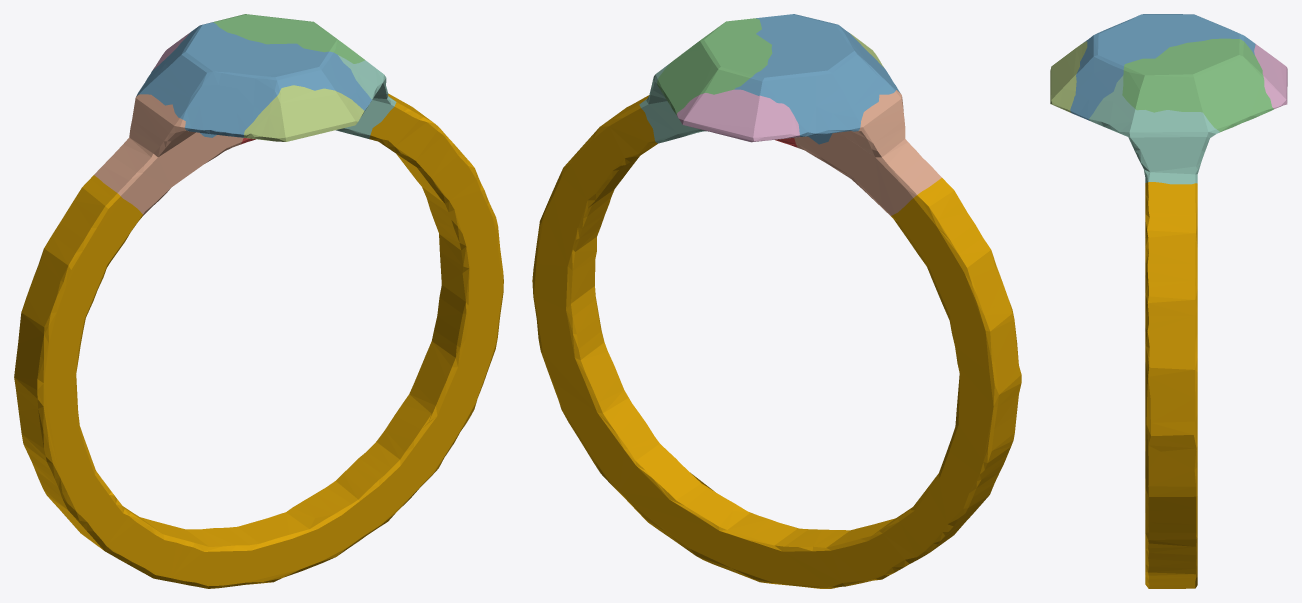
The model's file is mode_19_8pcs.glb.
3 views of the same model, side by side, from view 1: azimuth 30°, elevation 25°; view 2: azimuth 150°, elevation 25°; view 3: azimuth 270°, elevation 25° (orthographic).
Parts seen in each view (by area): view 1: piece_0.obj, piece_2.obj, piece_7.obj, piece_5.obj, piece_3.obj, piece_4.obj; view 2: piece_0.obj, piece_2.obj, piece_7.obj, piece_3.obj, piece_6.obj, piece_4.obj; view 3: piece_0.obj, piece_3.obj, piece_2.obj, piece_4.obj, piece_5.obj, piece_6.obj.
Boxes of the visible parts, box(x1,y1,x2,y2) form: piece_0.obj: box(14, 93, 503, 588); piece_2.obj: box(136, 22, 371, 137); piece_7.obj: box(94, 94, 243, 215); piece_5.obj: box(244, 85, 364, 141); piece_3.obj: box(213, 14, 364, 63); piece_4.obj: box(336, 55, 396, 138); piece_0.obj: box(532, 95, 1021, 588); piece_2.obj: box(734, 14, 899, 144); piece_7.obj: box(794, 90, 941, 215); piece_3.obj: box(657, 18, 772, 114); piece_6.obj: box(676, 89, 800, 142); piece_4.obj: box(639, 63, 708, 143); piece_0.obj: box(1145, 182, 1197, 588); piece_3.obj: box(1122, 38, 1273, 132); piece_2.obj: box(1070, 14, 1255, 120); piece_4.obj: box(1089, 75, 1219, 184); piece_5.obj: box(1050, 41, 1087, 112); piece_6.obj: box(1254, 43, 1287, 109).
Size of the model in its own units: 0.925 by 1 by 0.413.
